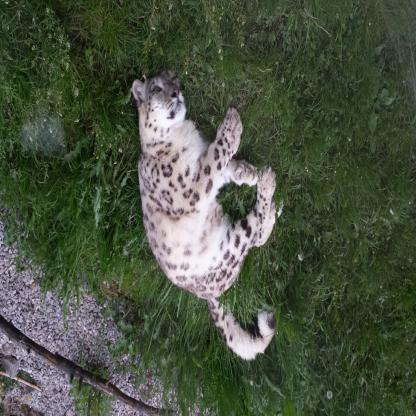leopard: (127, 66, 192, 160)
